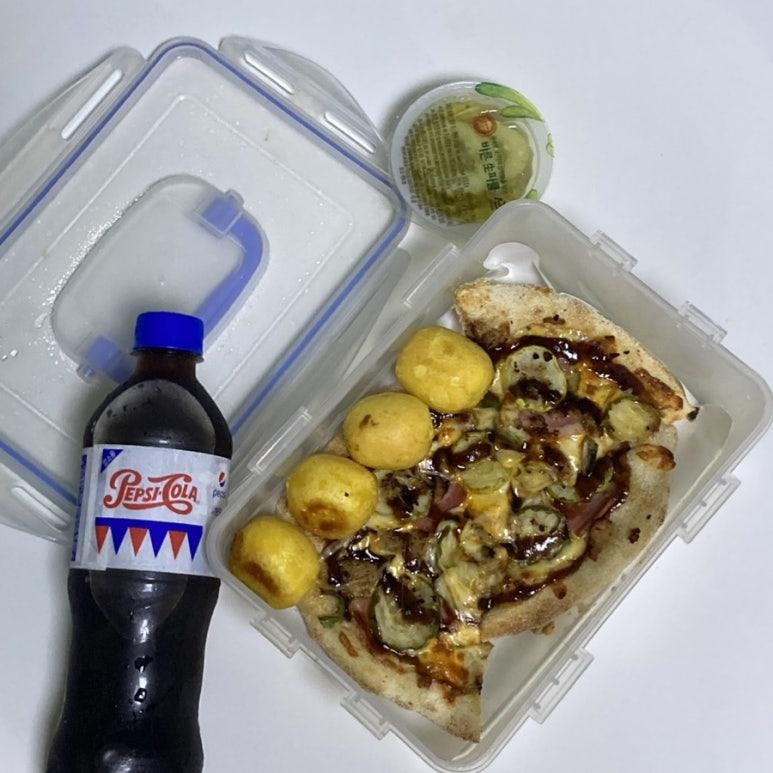Bottle: (47, 312, 231, 772)
Lunch Box: (0, 38, 772, 772), (391, 82, 551, 226)
